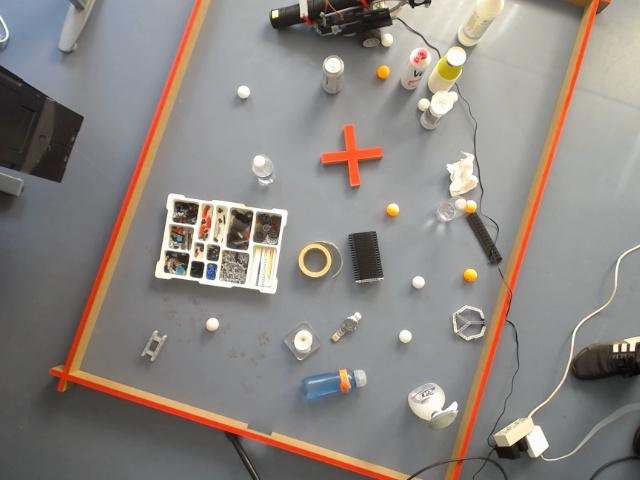orange: (385, 202, 402, 219), (462, 268, 478, 282), (465, 199, 478, 215), (375, 64, 389, 78)
robot: (270, 0, 432, 46)
robot-front: (270, 6, 298, 28)
white: (204, 316, 221, 334), (398, 328, 413, 346), (236, 84, 252, 100), (411, 274, 426, 290), (381, 31, 393, 46), (418, 96, 430, 110)
